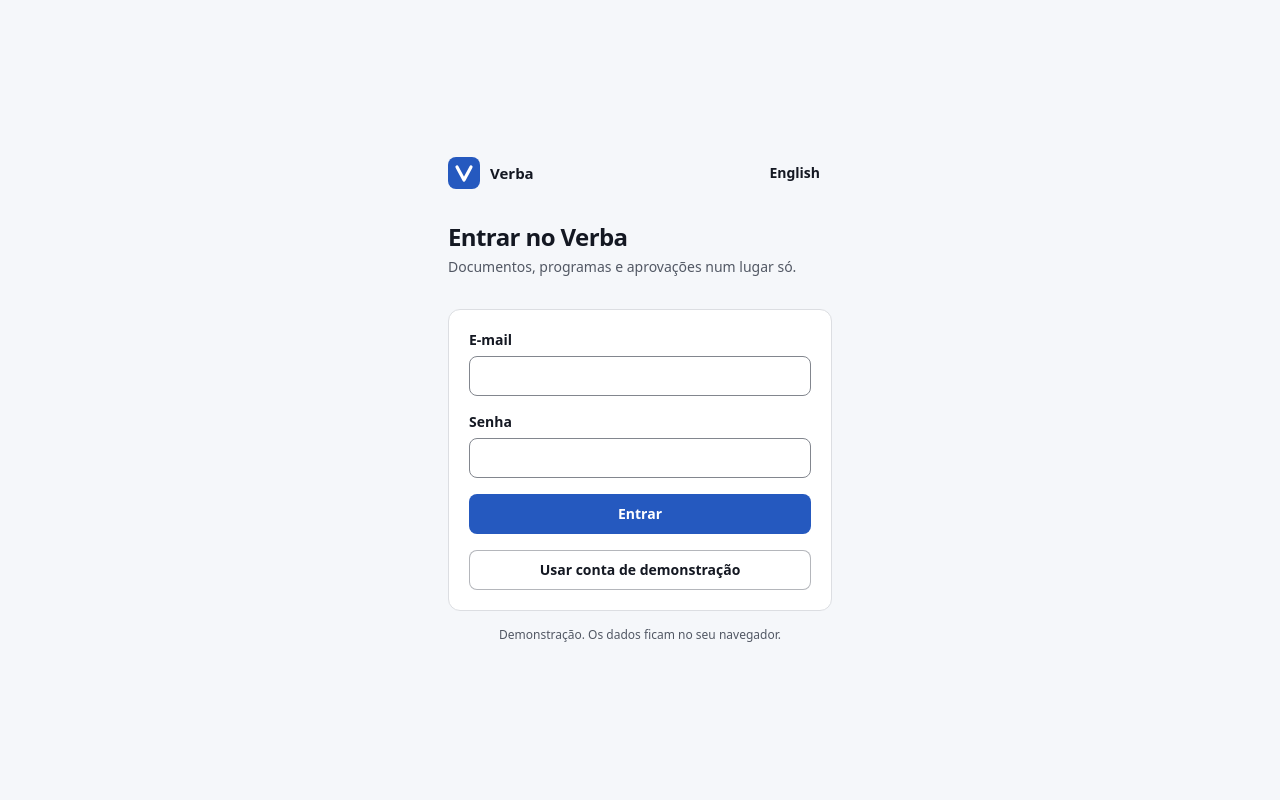
Test: sign in › returns to the page the visitor asked for
The width and height of the screenshot is (1280, 800).
Click the button "Usar conta de demonstração".
click(640, 570)  # box [469,550,811,590]
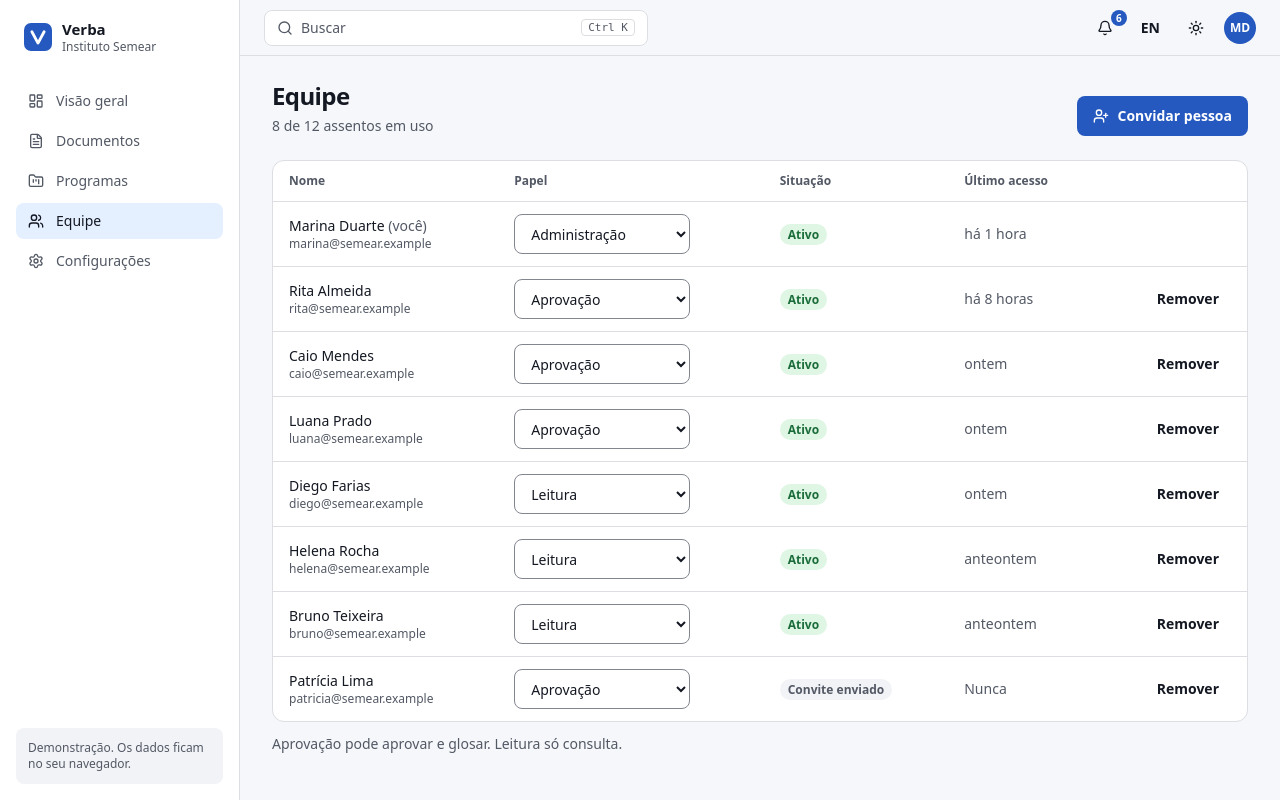
Expected: the heading "Equipe" is shown, [272,79,350,112]
